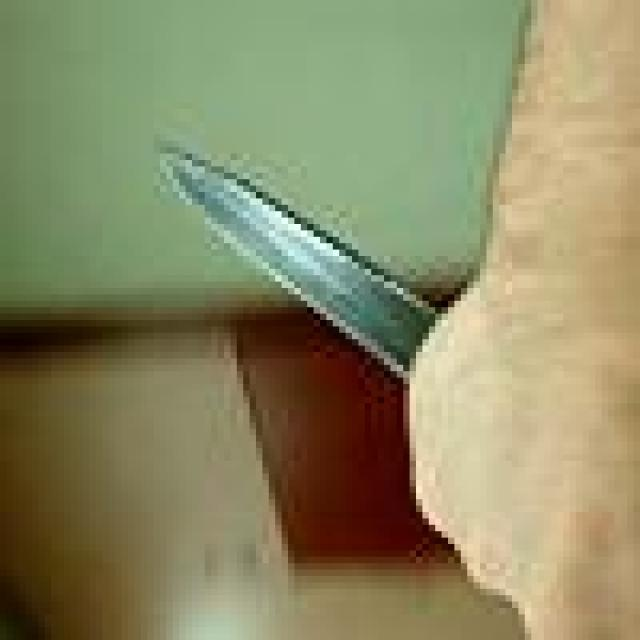knife: (160, 152, 409, 370)
